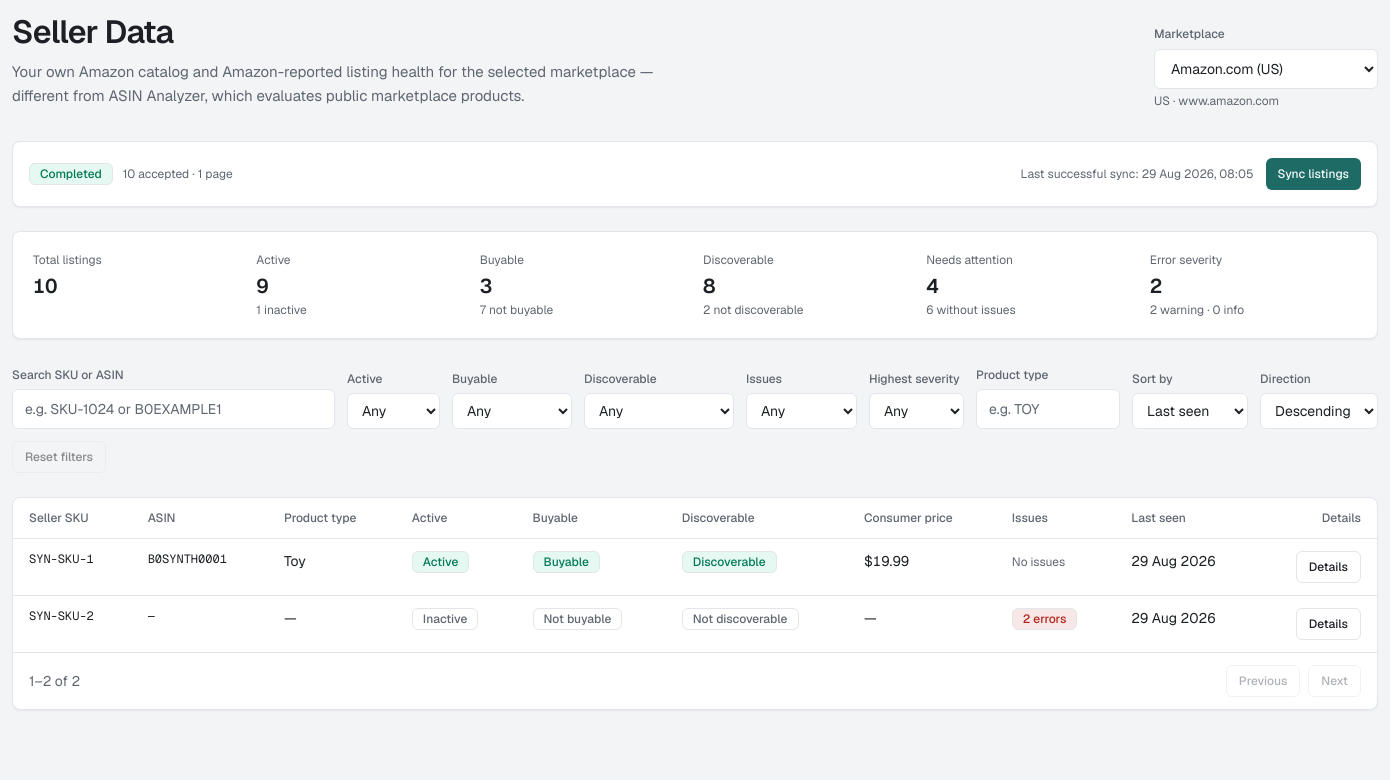
Test: Sync listings action › shows a sanitized message for reason=cooldown, never raw backend text
Expected: the text "SYN-SKU-1" is shown, [13,539,132,596]
Click the button "Sync listings" at (1313, 174), box [1266,158,1361,190]
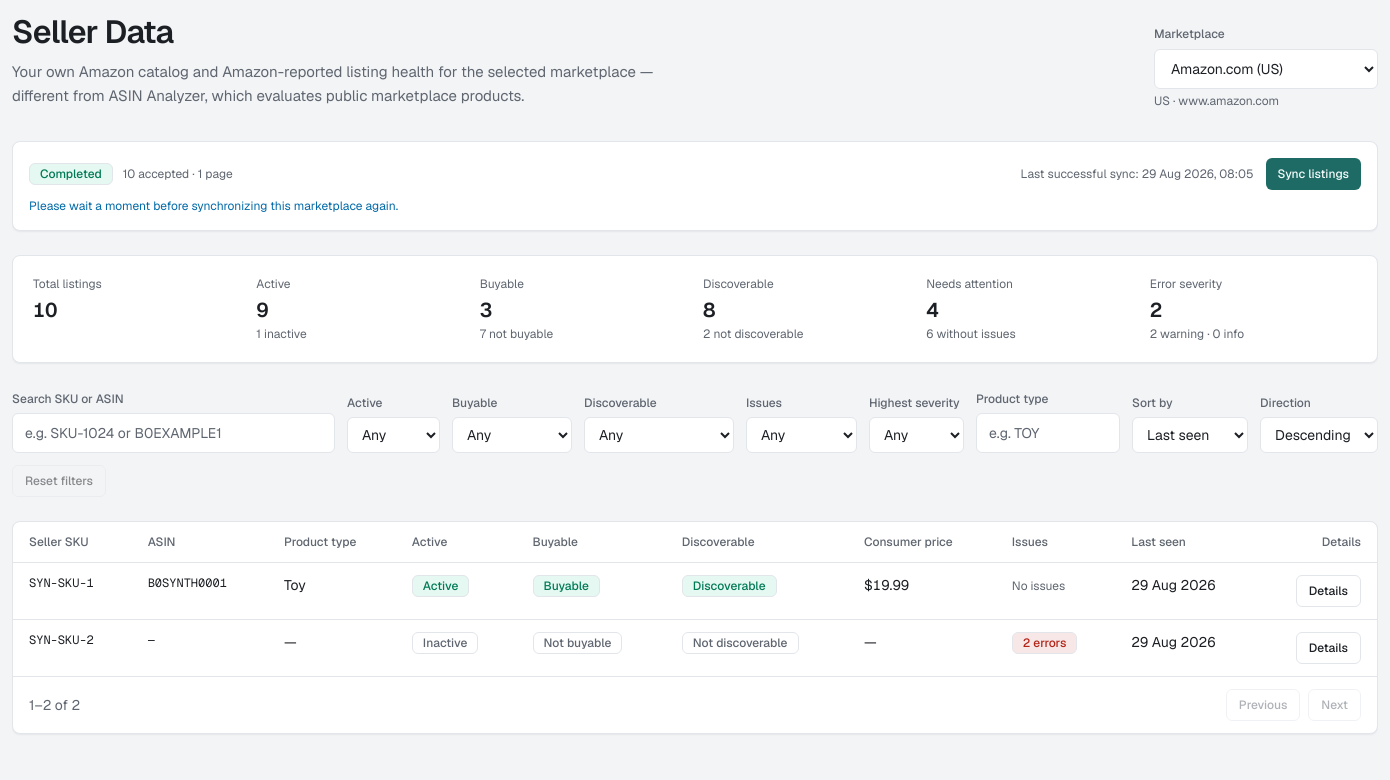
Now the text "Please wait a moment before synchronizing this marketplace again." is shown, box [29,198,398,214]
